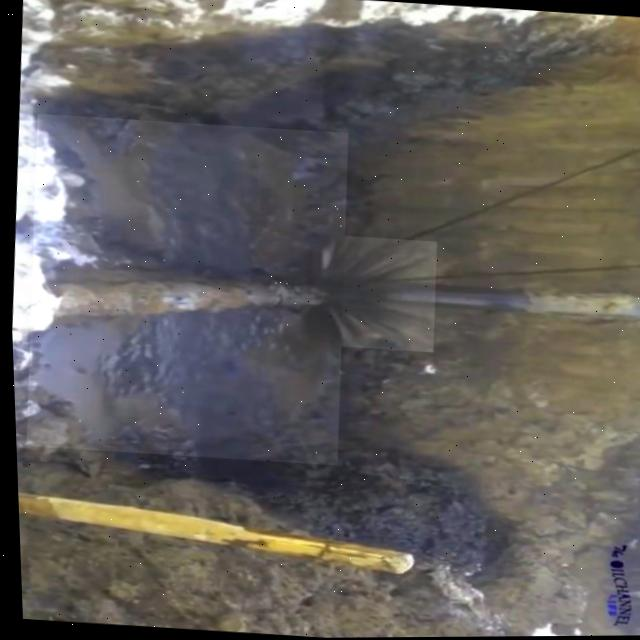spillage: (22, 114, 345, 465), (288, 233, 433, 353)
